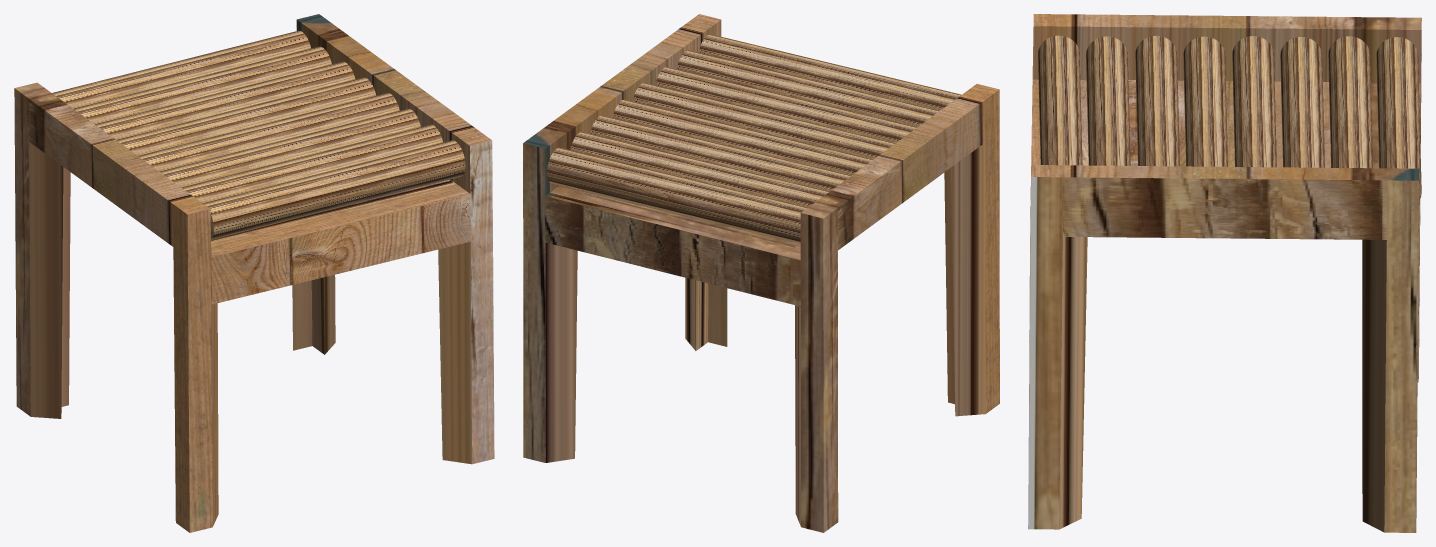
The model's file is untitled дерево.fbx.
The picture shows the model from 3 angles, left to right: view 1: azimuth 30°, elevation 25°; view 2: azimuth 150°, elevation 25°; view 3: azimuth 270°, elevation 25°; orthographic projection. The views are drawn at different scales.
Parts seen in each view (by area): view 1: Cube, Cylinder.003, Cylinder.002, Cylinder.005, Cylinder.004, Cylinder.001, Cylinder.006, Cylinder.008, Cylinder.007; view 2: Cube, Cylinder.008, Cylinder.004, Cylinder.001, Cylinder.003, Cylinder.002, Cylinder.006, Cylinder.005, Cylinder.007; view 3: Cube, Cylinder.008, Cylinder.007, Cylinder.005, Cylinder.006, Cylinder.002, Cylinder.001, Cylinder.003, Cylinder.004.
Part boxes in pixels (x1=…): Cube: x1=14, y1=14, x2=494, y2=532; Cylinder.003: x1=203, y1=140, x2=465, y2=239; Cylinder.002: x1=159, y1=108, x2=420, y2=187; Cylinder.005: x1=116, y1=77, x2=376, y2=155; Cylinder.004: x1=182, y1=124, x2=442, y2=202; Cylinder.001: x1=138, y1=93, x2=399, y2=171; Cylinder.006: x1=95, y1=61, x2=355, y2=139; Cylinder.008: x1=52, y1=30, x2=310, y2=108; Cylinder.007: x1=73, y1=46, x2=331, y2=124; Cube: x1=523, y1=14, x2=999, y2=532; Cylinder.008: x1=547, y1=147, x2=807, y2=243; Cylinder.004: x1=676, y1=50, x2=939, y2=126; Cylinder.001: x1=633, y1=82, x2=895, y2=159; Cylinder.003: x1=698, y1=34, x2=961, y2=110; Cylinder.002: x1=655, y1=67, x2=917, y2=142; Cylinder.006: x1=590, y1=115, x2=851, y2=191; Cylinder.005: x1=612, y1=99, x2=873, y2=175; Cylinder.007: x1=570, y1=132, x2=829, y2=207; Cube: x1=1028, y1=14, x2=1421, y2=532; Cylinder.008: x1=1376, y1=37, x2=1421, y2=200; Cylinder.007: x1=1328, y1=36, x2=1372, y2=168; Cylinder.005: x1=1232, y1=36, x2=1276, y2=167; Cylinder.006: x1=1280, y1=37, x2=1324, y2=167; Cylinder.002: x1=1135, y1=35, x2=1179, y2=166; Cylinder.001: x1=1183, y1=36, x2=1227, y2=166; Cylinder.003: x1=1038, y1=35, x2=1082, y2=165; Cylinder.004: x1=1086, y1=36, x2=1130, y2=165.
Bounding box in the file's own units: 194 × 194 × 195.
